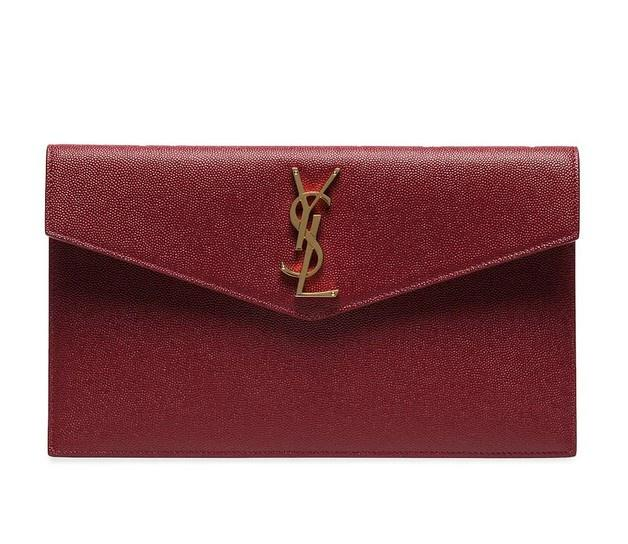YVES-SAINT-LAURENT: (280, 167, 340, 298)
